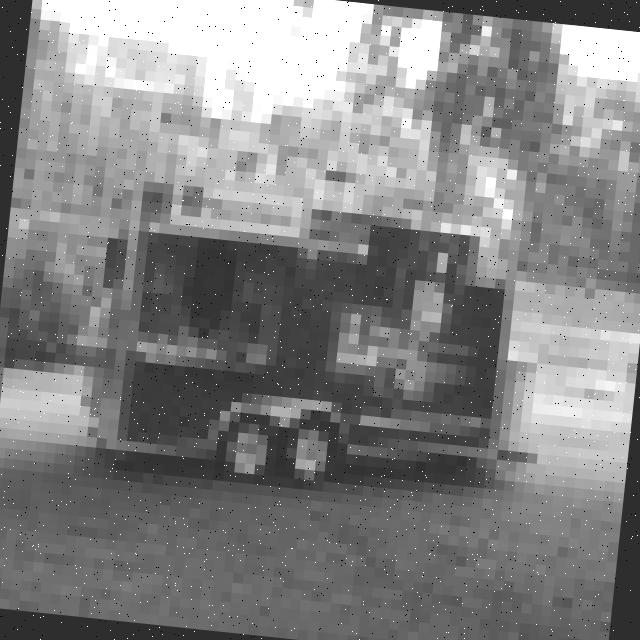trucks: (79, 165, 570, 518)
